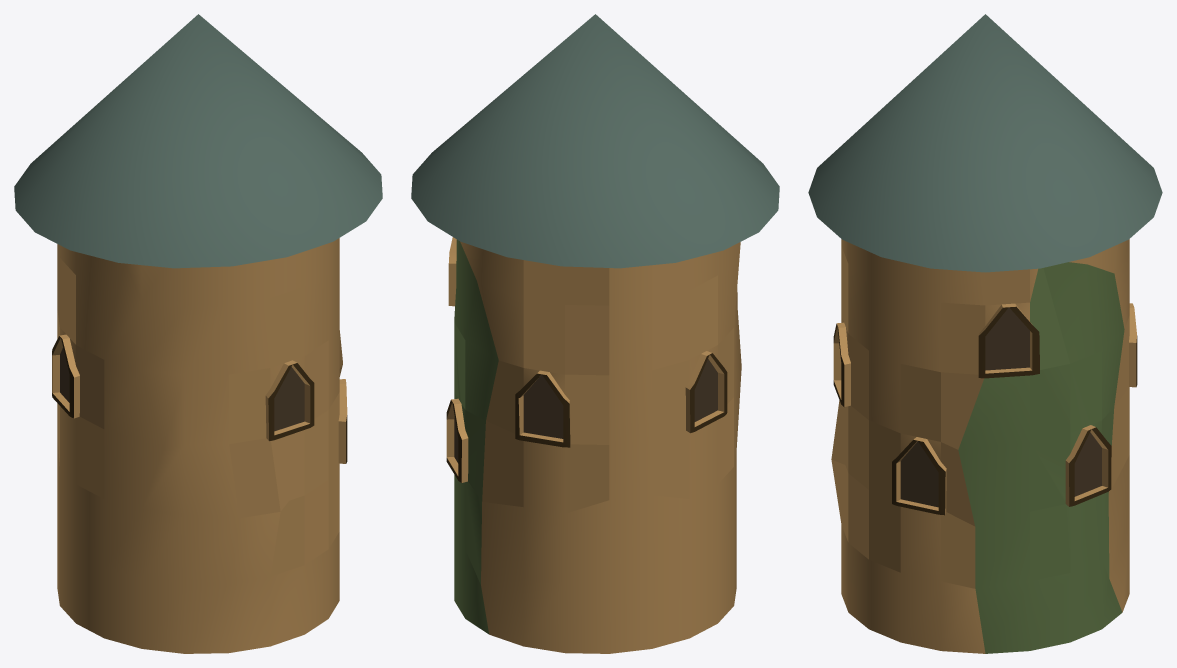
Rendered from museum.glb.
The picture shows the model from 3 angles, left to right: view 1: azimuth 30°, elevation 25°; view 2: azimuth 150°, elevation 25°; view 3: azimuth 270°, elevation 25°; orthographic projection.
Parts seen in each view (by area): view 1: pCylinder1, pCone1; view 2: pCylinder1, pCone1; view 3: pCylinder1, pCone1.
Part boxes in pixels (<box>): pCylinder1: <box>52,238,347,653</box>; pCone1: <box>14,14,382,268</box>; pCylinder1: <box>446,237,741,653</box>; pCone1: <box>411,14,779,268</box>; pCylinder1: <box>831,239,1137,653</box>; pCone1: <box>808,14,1162,272</box>.
Size of the model in its own units: 3.84 by 6.5 by 3.59.
